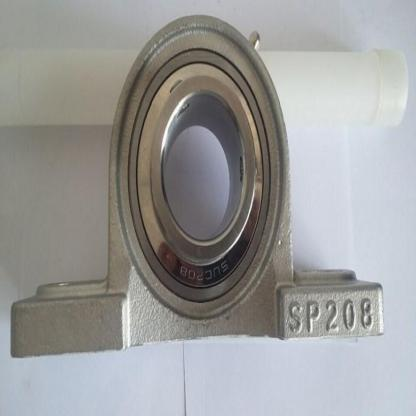FOD: (122, 31, 276, 319)
